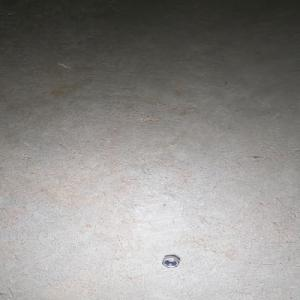Nut: (161, 255, 180, 268)
